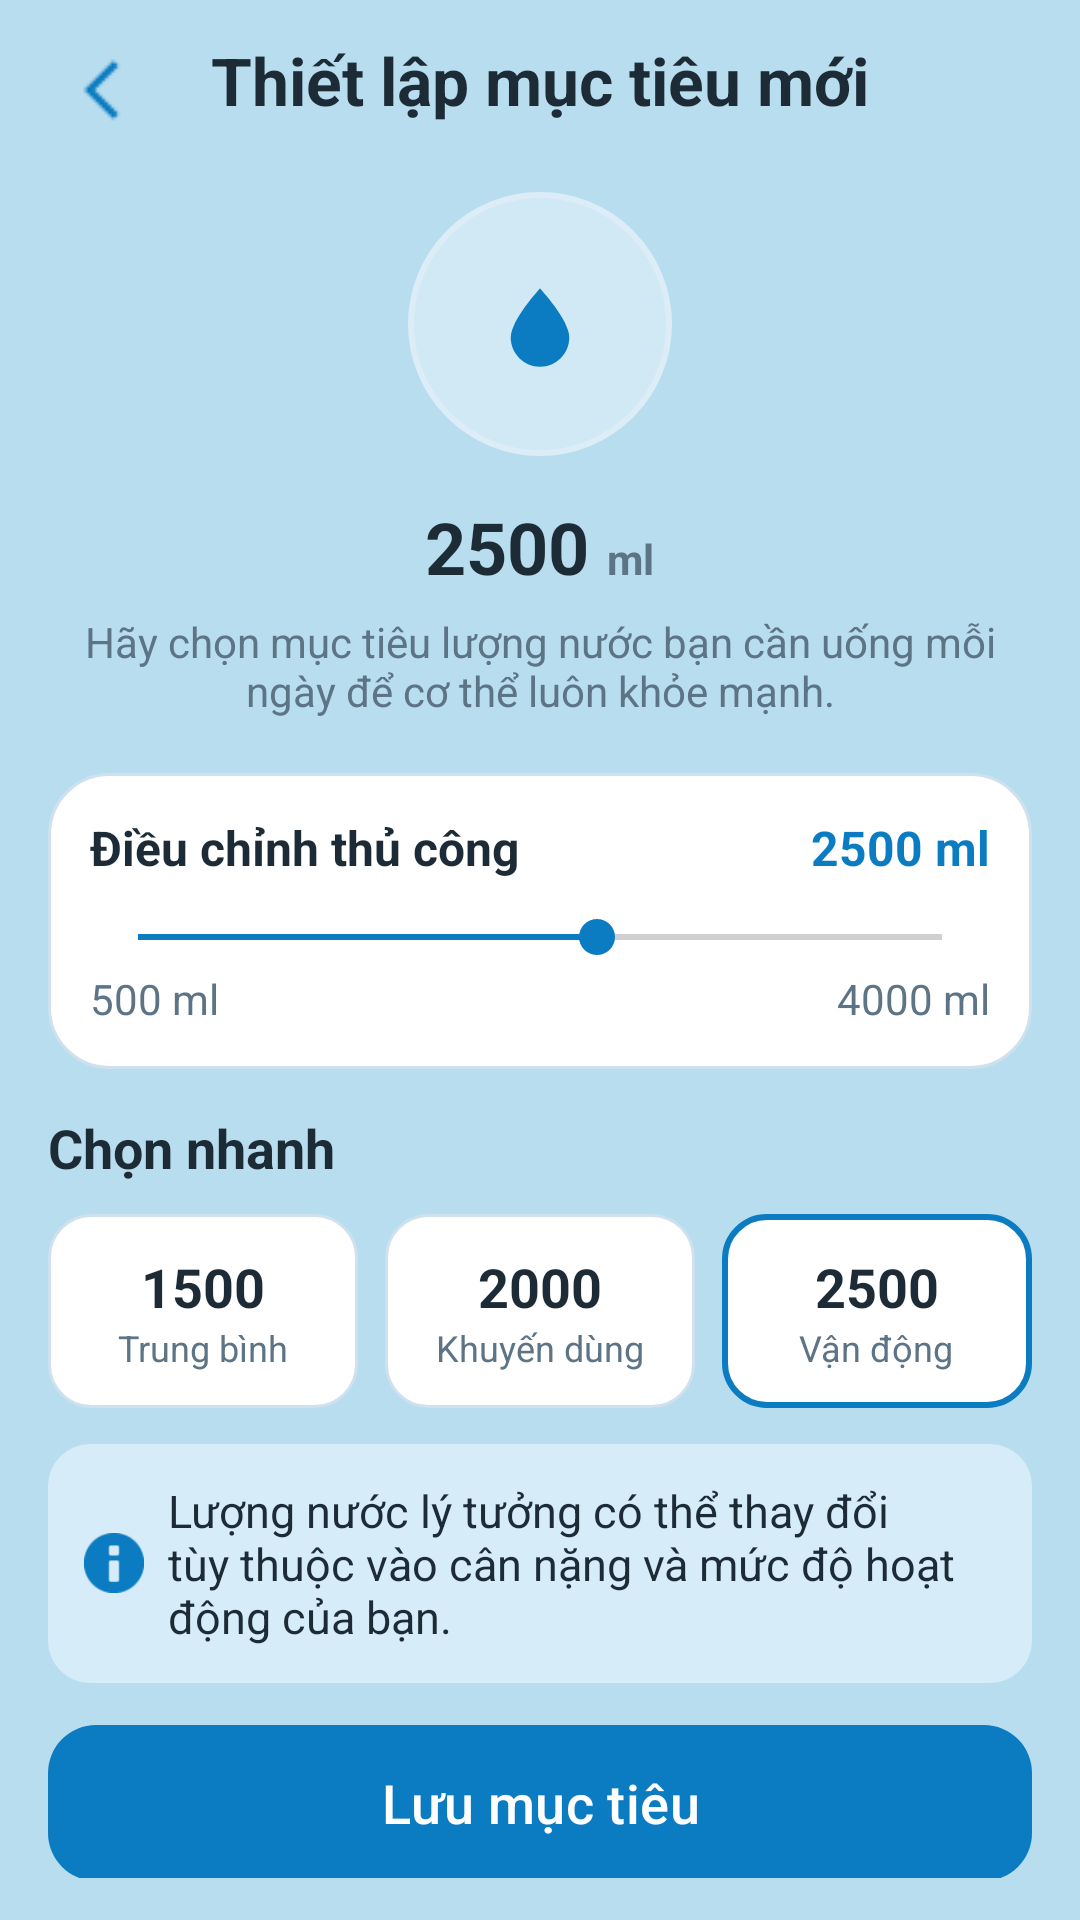

Named icons in this screenshot (1080×1920) and their centers, (x,y):
info: (114,1563)
water drop: (540,327)
